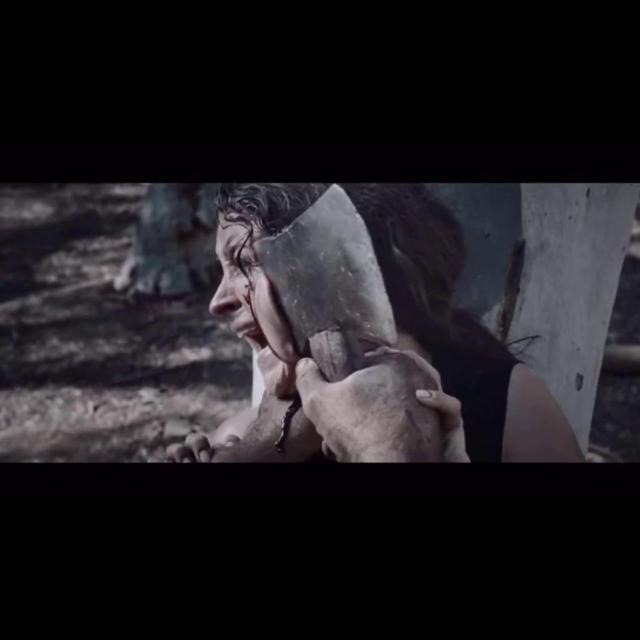blood: (276, 393, 302, 449), (238, 230, 252, 278), (268, 344, 288, 363), (245, 282, 252, 310)
